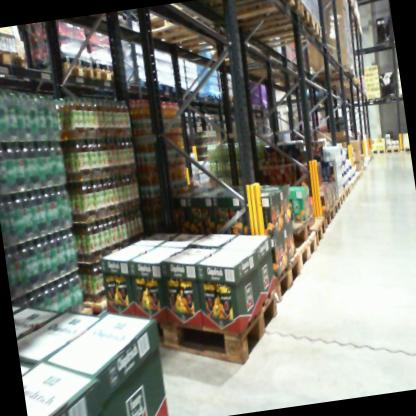pallet: (135, 286, 298, 377), (236, 8, 333, 61), (132, 0, 219, 51), (229, 1, 319, 46), (163, 26, 239, 62), (195, 0, 299, 26), (267, 249, 310, 310), (285, 229, 321, 286), (210, 43, 274, 74), (56, 45, 96, 90), (281, 206, 319, 250), (299, 215, 328, 256), (0, 38, 32, 70), (312, 65, 363, 84), (94, 62, 126, 85), (312, 205, 337, 233), (346, 18, 367, 42), (321, 77, 362, 89), (332, 196, 345, 216), (340, 182, 354, 199), (333, 187, 346, 205), (379, 90, 397, 103), (385, 143, 401, 157), (369, 145, 386, 158), (399, 141, 410, 160), (367, 96, 382, 105), (397, 93, 402, 100)
